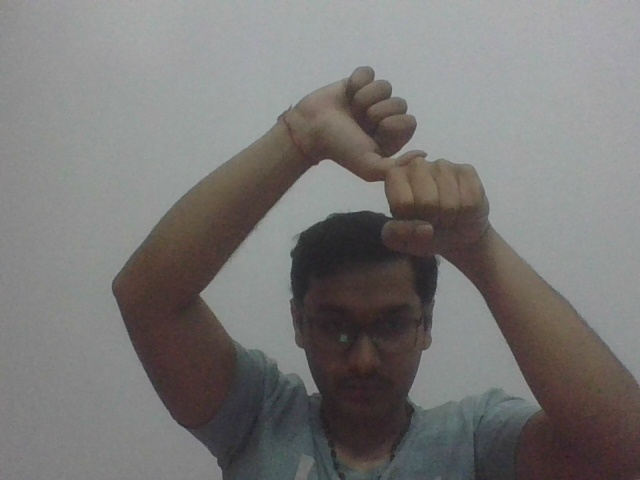S: (330, 65, 492, 254)
